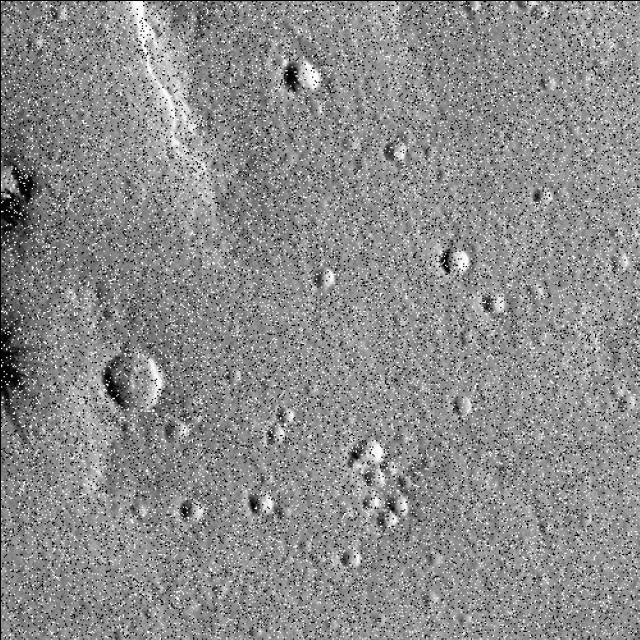crater: (0, 254, 101, 463), (90, 341, 170, 421), (275, 54, 329, 102), (435, 236, 476, 282), (0, 88, 27, 140)
